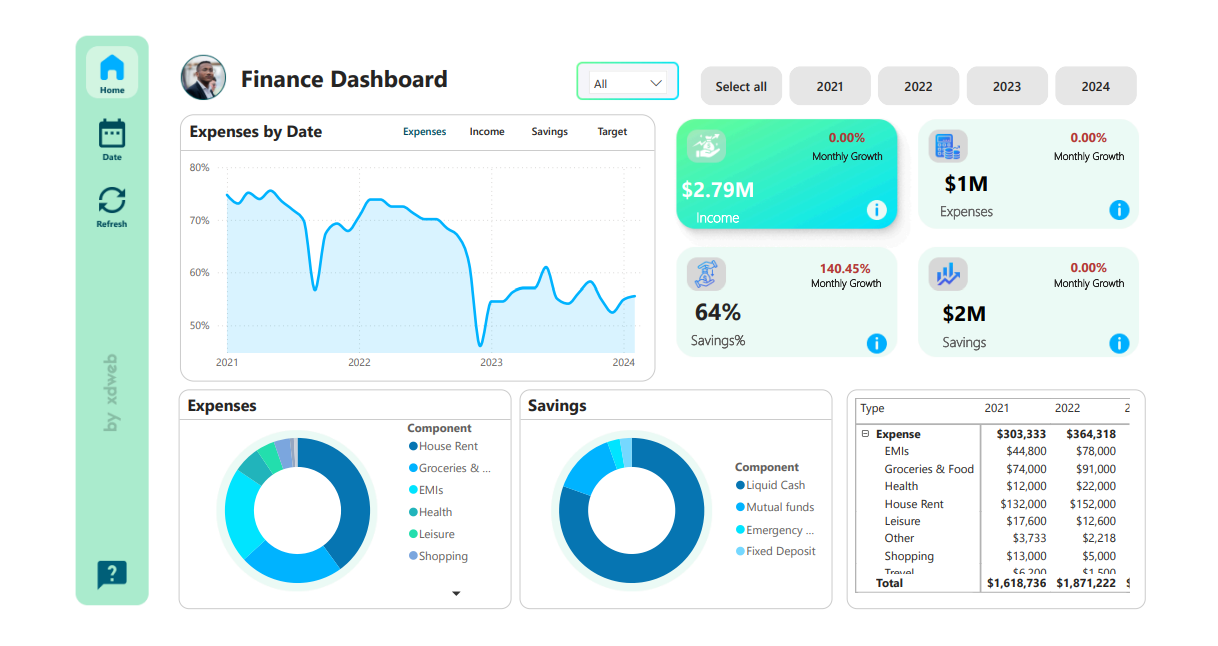

What the dashboard file says about the page in this screenshot:
{"tool":"powerbi","page":{"name":"Page 1","canvas":[1280,720],"ordinal":0},"visuals":[{"type":"donutChart","title":"Savings","fields":{"Y":["Dataset.Savings"],"Category":["Dataset.Component"]},"box":[536.2,437.5,360,252.5],"z":0},{"type":"card","fields":{"Values":["Dataset.Expenses"]},"box":[993.8,167.5,113.8,88.8],"z":1000},{"type":"areaChart","fields":{"Y":["Dataset.Line_Chart_Measures"],"Category":["Dataset.Date"]},"box":[146.4,120,547.3,307.3],"z":2000},{"type":"card","fields":{"Values":["Dataset.Savings"]},"box":[993.8,326.2,108.8,71.2],"z":3000},{"type":"card","fields":{"Values":["Dataset.Savings%"]},"box":[711.2,317.5,107.5,80],"z":4000},{"type":"advancedSlicerVisual","fields":{"Values":["Dataset.Year"]},"box":[753.8,31.2,468.8,58.8],"z":5000},{"type":"donutChart","title":"Expenses","fields":{"Category":["Dataset.Component"],"Y":["Dataset.Expenses"]},"box":[145,437.5,382.5,252.5],"z":6000},{"type":"pivotTable","fields":{"Values":["Dataset.Total_Values"],"Rows":["Dataset.Type","Dataset.Component"],"Columns":["Dataset.Year"]},"box":[913.8,437.5,343.8,252.5],"z":7000},{"type":"card","fields":{"Values":["Dataset.Income"]},"box":[716.4,180.9,97.3,74.5],"z":8000},{"type":"textbox","box":[210.9,55.5,300,46.4],"z":9000},{"type":"slicer","fields":{"Values":["Selected_Date.Month-yr"]},"box":[595.5,55.5,128.2,46.4],"z":10000},{"type":"advancedSlicerVisual","fields":{"Values":["Line_Selection_Table.Type"]},"box":[390.9,122.7,290,37.3],"z":11000},{"type":"card","fields":{"Values":["Dataset.Ex_ws_Sav"]},"box":[573.3,155,150,81.7],"z":12000},{"type":"card","fields":{"Values":["Dataset.Income_Monthly_Gr"]},"box":[882.9,135,61.8,26.4],"z":13000,"group":"g1"},{"type":"card","fields":{"Values":["Dataset.Savings_Monthly_Gr"]},"box":[1161.1,135.5,61.8,26.4],"z":13000,"group":"g3"},{"type":"card","fields":{"Values":["Dataset.Expenses_Monthly_Gr"]},"box":[1153.8,283.9,74.6,23.8],"z":13000,"group":"g4"},{"type":"card","fields":{"Values":["Dataset.Ex_ws_Sav"]},"box":[859.5,286.1,105,28.8],"z":13000,"group":"g2"},{"type":"group","id":"g1","title":"Group 1","box":[861.8,135,103.6,45.9],"z":14000},{"type":"group","id":"g2","title":"Group 1","box":[859.5,286.1,105.9,41.7],"z":15000},{"type":"textbox","box":[861.8,153.6,103.6,27.3],"z":15001,"group":"g1"},{"type":"textbox","box":[1140,154.1,103.6,27.3],"z":15001,"group":"g3"},{"type":"textbox","box":[861.8,300.5,103.6,27.3],"z":15001,"group":"g2"},{"type":"textbox","box":[1140,300.5,103.6,27.3],"z":15001,"group":"g4"},{"type":"group","id":"g3","title":"Group 1","box":[1140,135.5,103.6,45.5],"z":16000},{"type":"group","id":"g4","title":"Group 1","box":[1140,283.9,103.6,43.8],"z":17000}]}

Visuals, with their boxes on the page's 1280x720 design canvas (x1, y1, x2, y2). These are canvas units, not pixel positions in the 1218x646 screenshot, which may show the page scaled, cropped or inside an application window:
"Savings" donutChart: bbox=[536, 438, 896, 690]
card - Dataset.Expenses: bbox=[994, 168, 1108, 256]
areaChart - Dataset.Line_Chart_Measures x Dataset.Date: bbox=[146, 120, 694, 427]
card - Dataset.Savings: bbox=[994, 326, 1103, 397]
card - Dataset.Savings%: bbox=[711, 318, 819, 398]
advancedSlicerVisual - Dataset.Year: bbox=[754, 31, 1223, 90]
"Expenses" donutChart: bbox=[145, 438, 528, 690]
pivotTable - Dataset.Total_Values x Dataset.Type: bbox=[914, 438, 1258, 690]
card - Dataset.Income: bbox=[716, 181, 814, 255]
textbox: bbox=[211, 56, 511, 102]
slicer - Selected_Date.Month-yr: bbox=[596, 56, 724, 102]
advancedSlicerVisual - Line_Selection_Table.Type: bbox=[391, 123, 681, 160]
card - Dataset.Ex_ws_Sav: bbox=[573, 155, 723, 237]
card - Dataset.Income_Monthly_Gr: bbox=[883, 135, 945, 161]
card - Dataset.Savings_Monthly_Gr: bbox=[1161, 136, 1223, 162]
card - Dataset.Expenses_Monthly_Gr: bbox=[1154, 284, 1228, 308]
card - Dataset.Ex_ws_Sav: bbox=[860, 286, 964, 315]
"Group 1" group: bbox=[862, 135, 965, 181]
"Group 1" group: bbox=[860, 286, 965, 328]
textbox: bbox=[862, 154, 965, 181]
textbox: bbox=[1140, 154, 1244, 181]
textbox: bbox=[862, 300, 965, 328]
textbox: bbox=[1140, 300, 1244, 328]
"Group 1" group: bbox=[1140, 136, 1244, 181]
"Group 1" group: bbox=[1140, 284, 1244, 328]
